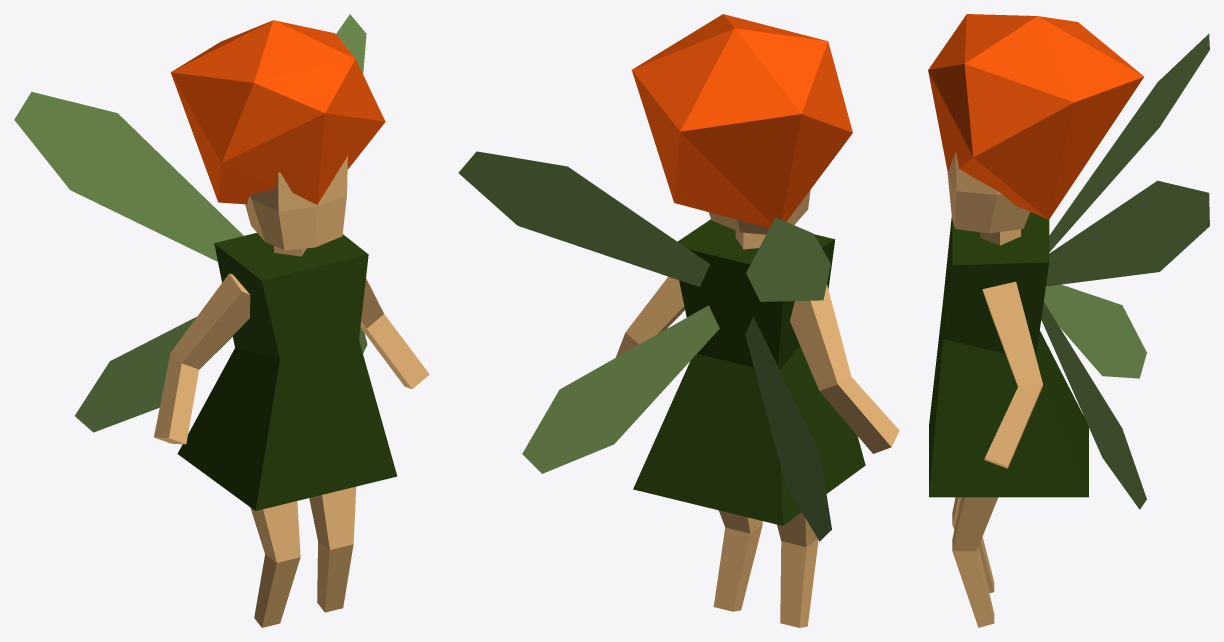
The picture shows the model from 3 angles, left to right: view 1: azimuth 30°, elevation 25°; view 2: azimuth 150°, elevation 25°; view 3: azimuth 270°, elevation 25°; orthographic projection. The views are drawn at different scales.
Visible parts, largest first — view 1: Fairy03_0; view 2: Fairy03_0; view 3: Fairy03_0.
Part boxes in pixels (bbox=[...]): Fairy03_0: bbox=[14, 14, 429, 627]; Fairy03_0: bbox=[458, 14, 899, 627]; Fairy03_0: bbox=[928, 14, 1209, 627].
Size of the model in its own units: 0.1569 by 0.2455 by 0.1061.
